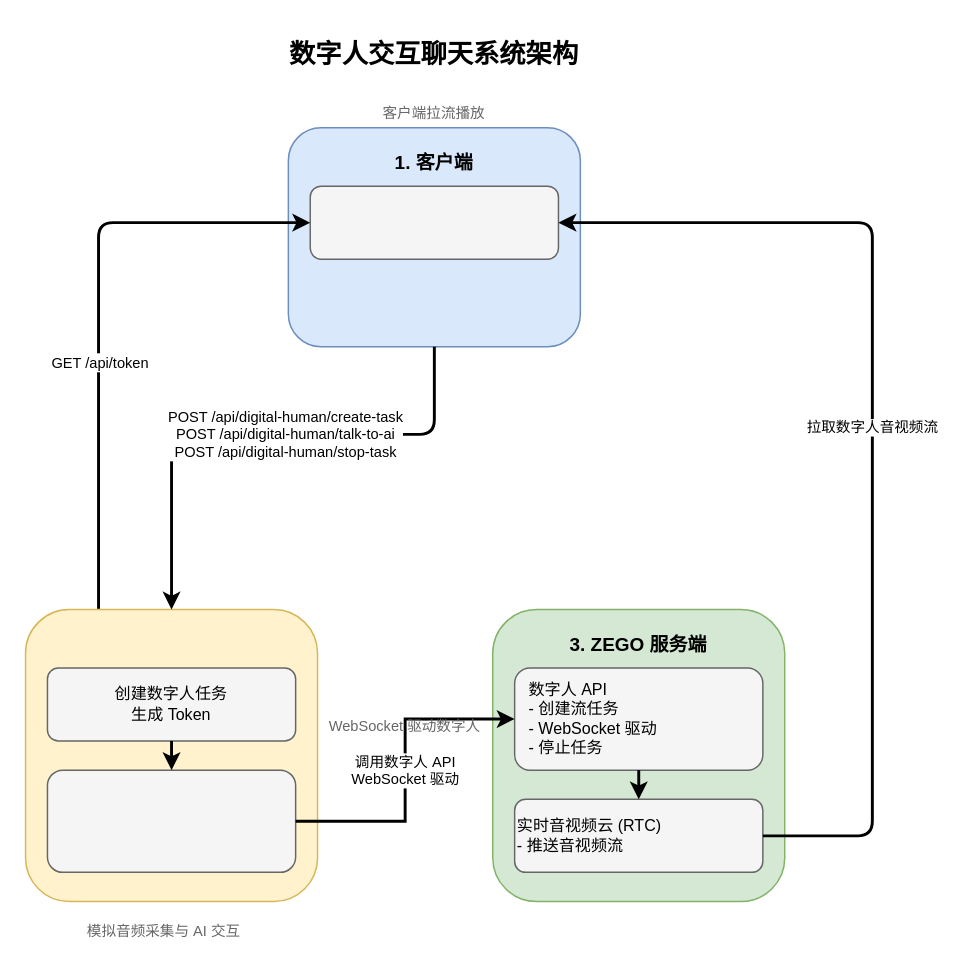
Some shapes in this 964 by 969 pixel diagram are drawn without their labels. Here are the shapes that lost their labels. From the top down, the box of each, then its label:
(309, 185, 558, 259): ZEGO Express SDK 拉流播放
(24, 608, 318, 902): 2. 业务后台
(46, 769, 296, 872): WebSocket 驱动数字人 - 读取 PCM 音频 - 实际应 ASR→LLM→TTS
